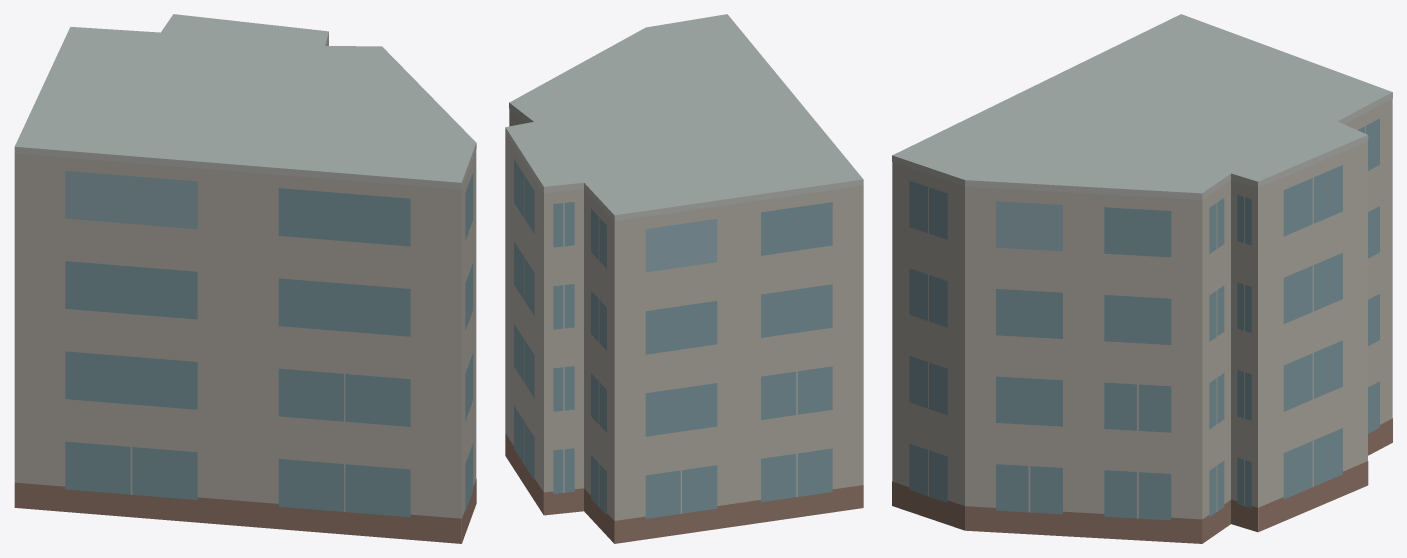
File: survey-upis-32618460.glb
3 views of the same model, side by side, from view 1: azimuth 30°, elevation 25°; view 2: azimuth 150°, elevation 25°; view 3: azimuth 270°, elevation 25° (orthographic). The views are drawn at different scales.
Parts seen in each view (by area): view 1: survey-upis-32618460.tmp; view 2: survey-upis-32618460.tmp; view 3: survey-upis-32618460.tmp.
Boxes of the visible parts, x1,y1,x2,y2 form: survey-upis-32618460.tmp: [14, 14, 476, 543]; survey-upis-32618460.tmp: [505, 14, 863, 543]; survey-upis-32618460.tmp: [892, 14, 1392, 543].
Size of the model in its own units: 14.49 by 13.2 by 17.09.
